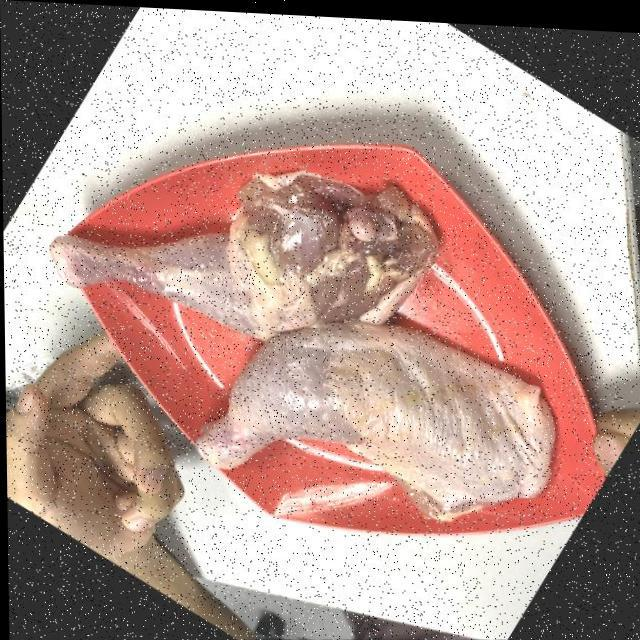quater: (16, 154, 448, 334), (203, 333, 561, 538)
